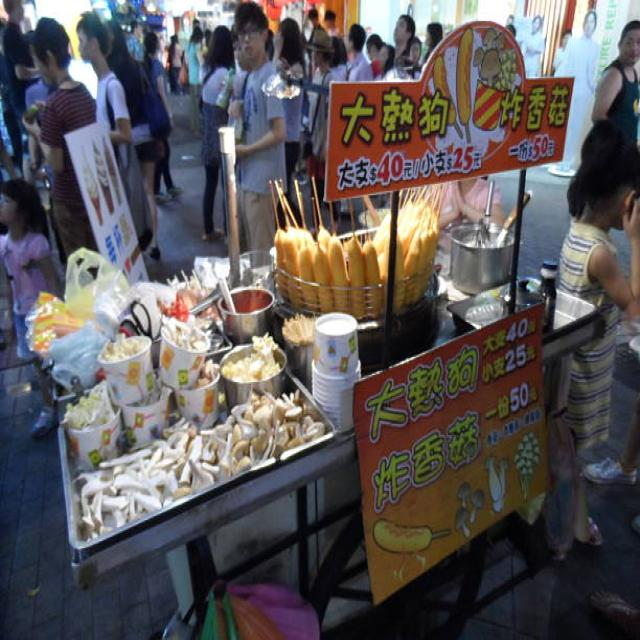Emperan: (26, 15, 602, 640)
